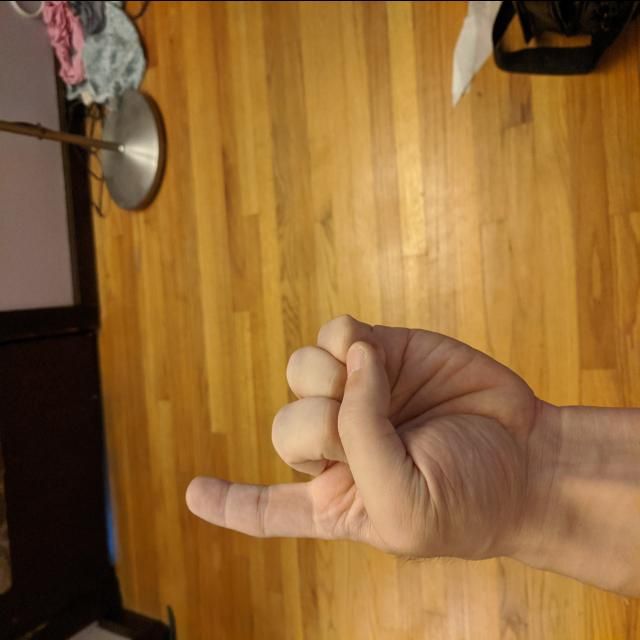D: (180, 304, 548, 568)
